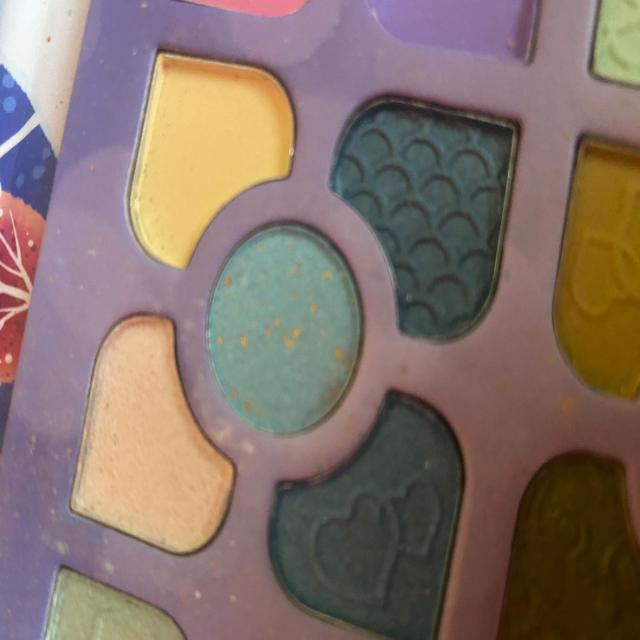eye shade: (323, 75, 530, 351), (257, 375, 472, 640), (64, 298, 242, 556), (120, 34, 304, 274), (205, 214, 366, 442)
